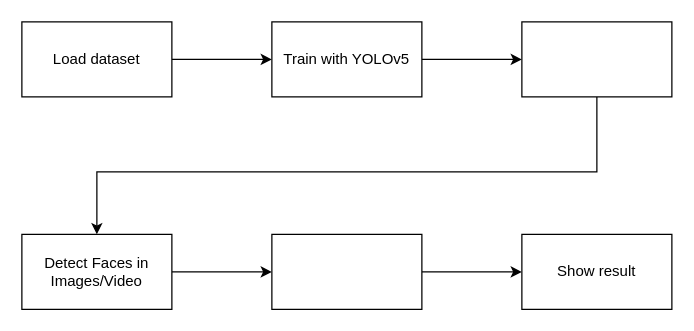
The diagram is 694 pixels wide and 331 high, and some of its shapes have lost their labels. Here are the shapes that lost their labels. From the top down, the centre of each, then its label:
the point at 596,59: Serialize facemask classifier to disk
the point at 346,271: Extract each face ROI
